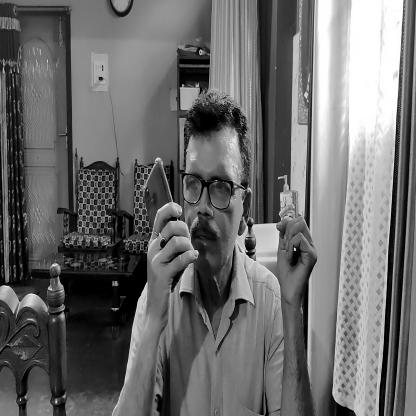Distracted: (173, 95, 249, 281)
